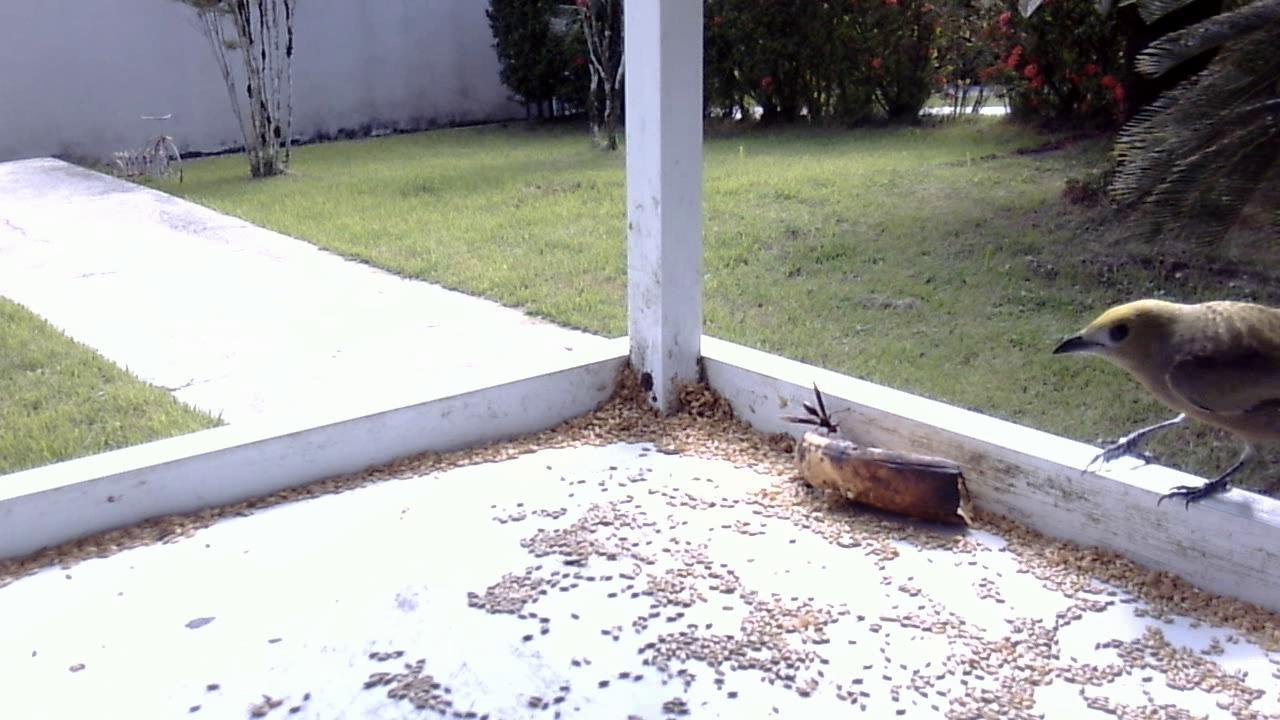sanhaco_do_coqueiro: (1046, 289, 1272, 521)
